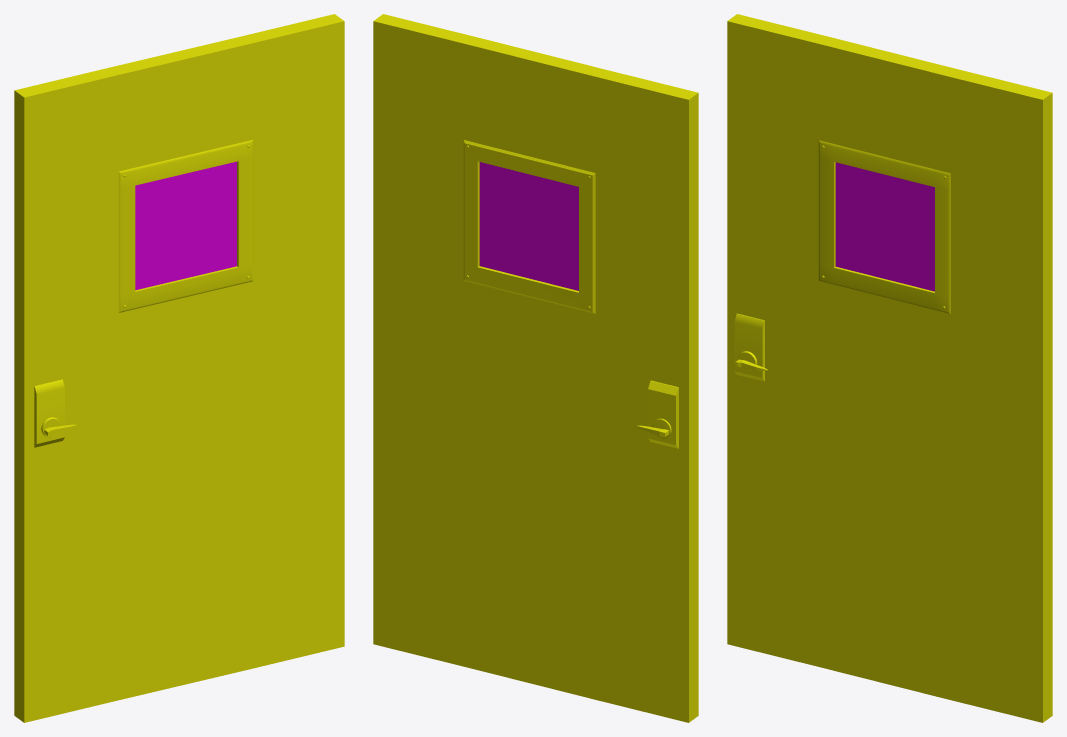
Rendered from DoorMain.fbx.
3 renders of one model, left to right at view 1: azimuth 30°, elevation 25°; view 2: azimuth 150°, elevation 25°; view 3: azimuth 330°, elevation 25°, orthographic.
Parts seen in each view (by area): view 1: Door_Main2; view 2: Door_Main2; view 3: Door_Main2.
Boxes of the visible parts, x1=… form: Door_Main2: x1=14, y1=14, x2=344, y2=722; Door_Main2: x1=373, y1=14, x2=698, y2=722; Door_Main2: x1=727, y1=14, x2=1052, y2=722.
Size of the model in its own units: 120 by 226 by 16.71.
